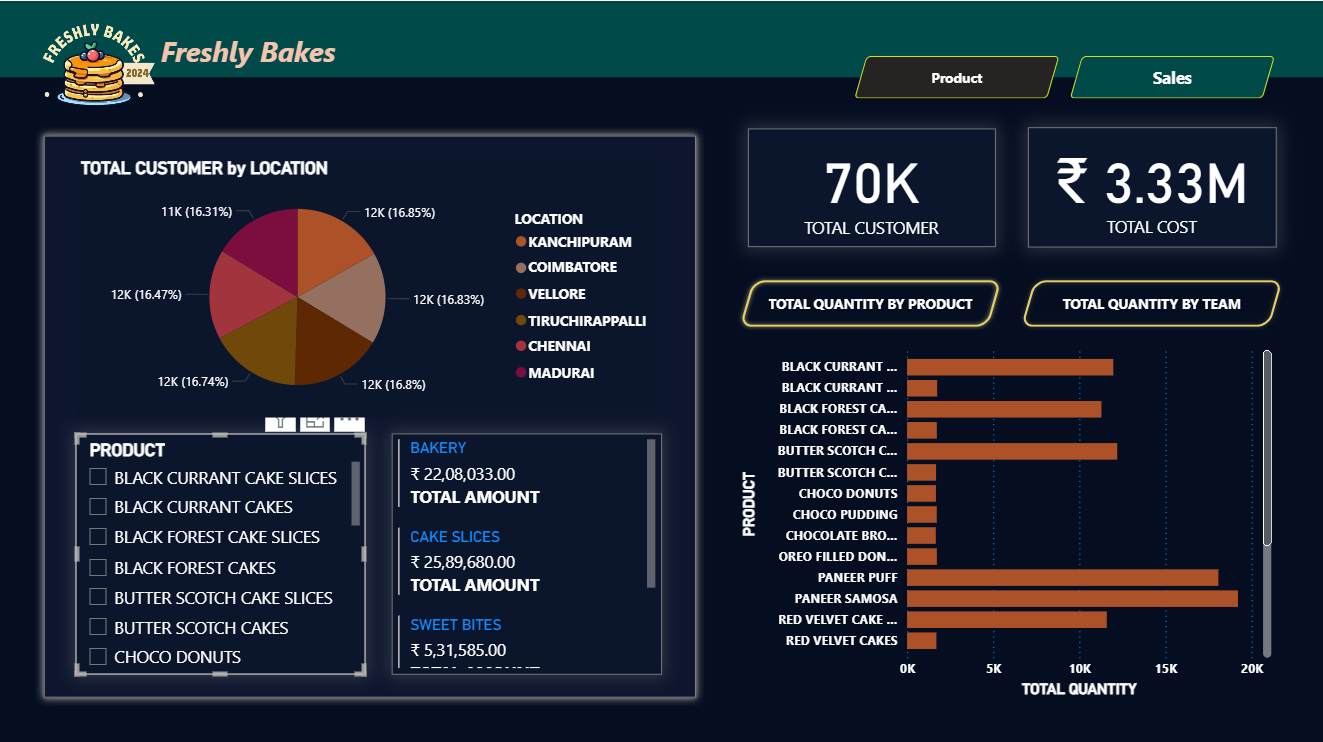

The page's visual inventory and layout, read from the dashboard file:
{"tool":"powerbi","page":{"name":"Product","canvas":[1280,720],"ordinal":0},"visuals":[{"type":"shape","box":[36.2,121.9,645.4,558.6],"z":0},{"type":"shape","box":[0,0,1280,73.6],"z":1000},{"type":"pageNavigator","box":[826.4,53.1,407.8,41],"z":2000},{"type":"card","fields":{"Values":["Sales.TOTAL CUSTOMER"]},"box":[723.9,123.1,238.9,114.6],"z":3000},{"type":"slicer","fields":{"Values":["Sales.PRODUCT"]},"box":[74.8,417.4,279.9,232.8],"z":4000},{"type":"pieChart","fields":{"Y":["Sales.TOTAL CUSTOMER"],"Category":["Sales.LOCATION"]},"box":[74.8,150.8,565.8,250.9],"z":5000},{"type":"donutChart","fields":{"Y":["Sales.TOTAL QUANTITY"],"Category":["Sales_person.TEAM"]},"box":[711.8,330.6,522.4,348.7],"z":7000},{"type":"multiRowCard","fields":{"Values":["Sales_person.TEAM","Sales.TOTAL AMOUNT"]},"box":[380,417.4,260.6,232.8],"z":8000},{"type":"card","fields":{"Values":["Sales.TOTAL COST"]},"box":[994.2,121.3,239.8,115.7],"z":9000},{"type":"actionButton","box":[711.5,265.9,260.7,53],"z":10000},{"type":"actionButton","box":[983.4,265.9,260.7,53],"z":11000},{"type":"image","box":[0,0,185,140],"z":12000},{"type":"textbox","box":[152,25.3,202.7,48.3],"z":13000}]}

Visuals, with their boxes in screenshot pixels (x1, y1, x2, y2), scaled from the page's 1280x720 canvas onto the 1323x742 screenshot:
shape: box=[37, 126, 704, 701]
shape: box=[0, 0, 1322, 76]
pageNavigator: box=[854, 55, 1276, 97]
card - Sales.TOTAL CUSTOMER: box=[748, 127, 995, 245]
slicer - Sales.PRODUCT: box=[77, 430, 367, 670]
pieChart - Sales.TOTAL CUSTOMER x Sales.LOCATION: box=[77, 155, 662, 414]
donutChart - Sales.TOTAL QUANTITY x Sales_person.TEAM: box=[736, 341, 1276, 700]
multiRowCard - Sales_person.TEAM x Sales.TOTAL AMOUNT: box=[393, 430, 662, 670]
card - Sales.TOTAL COST: box=[1028, 125, 1275, 244]
actionButton: box=[735, 274, 1005, 329]
actionButton: box=[1016, 274, 1286, 329]
image: box=[0, 0, 191, 144]
textbox: box=[157, 26, 367, 76]
